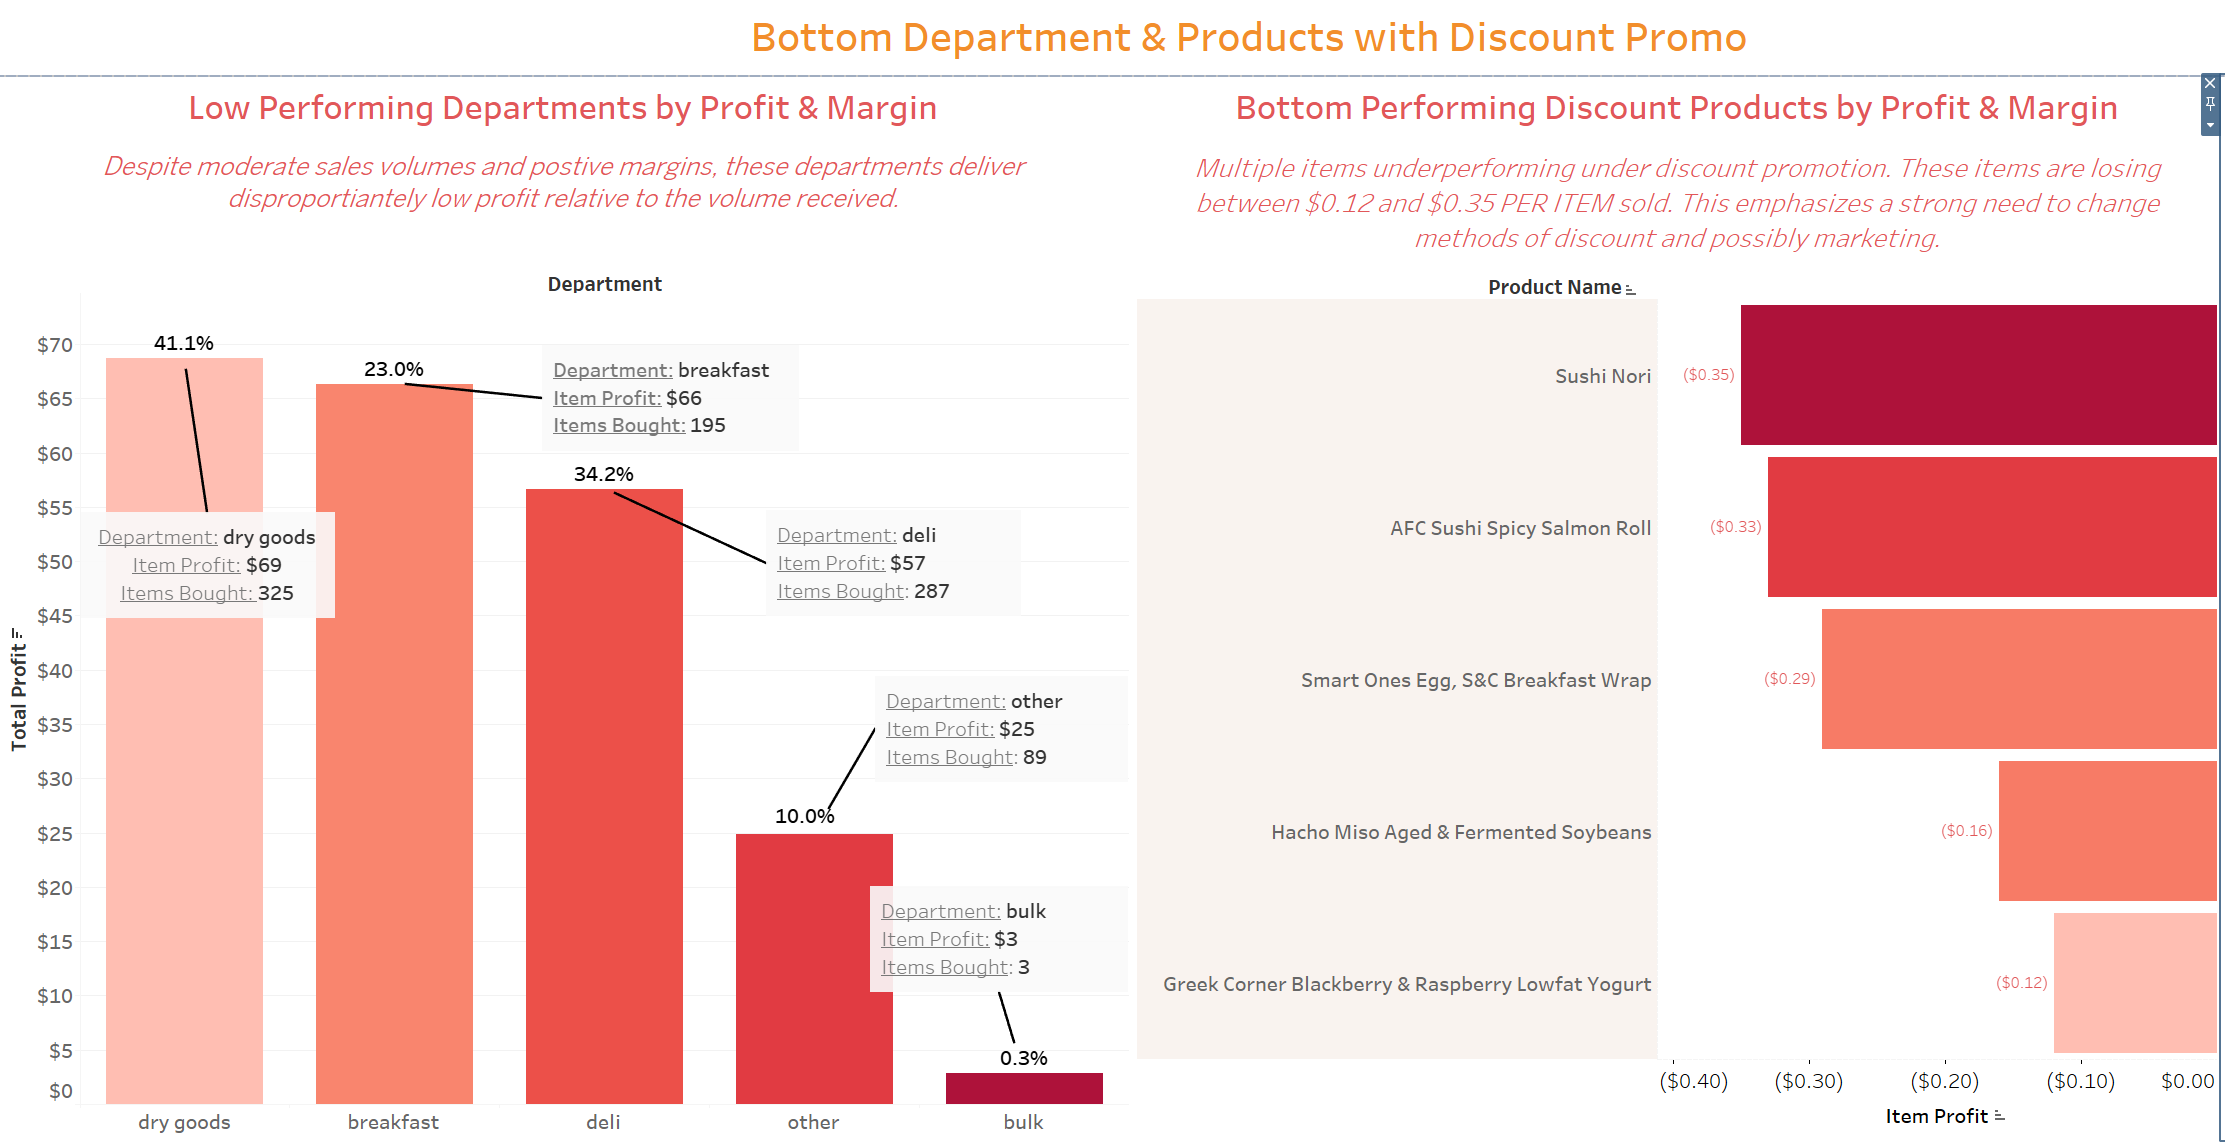

This screenshot's page, from the dashboard's own definition file:
{"tool":"tableau","page":{"name":"Bottom Performers","canvas":[1000,1000],"units":"permille","ordinal":0},"visuals":[{"type":"text","box":[3.2,6.9,993.7,105.1]},{"type":"dashboard-object","box":[772.1,15.5,110.8,44.8]},{"type":"dashboard-object","box":[884.5,15.5,110.8,44.8]},{"type":"dashboard-object","box":[836.6,63.7,112,44.8]},{"type":"worksheet","title":"Bottom Dept","mark":"Automatic","rows":["item_profit"],"cols":["department"],"box":[3.2,112,421.7,881.1]},{"type":"worksheet","title":"Bottom Products","mark":"Automatic","rows":["product_name"],"cols":["item_profit"],"box":[424.8,112,496.8,881.1]}]}

Visuals, with their boxes on the dashboard's canvas, which has no fixed pixel size, in thousandths of its width and height (x1, y1, x2, y2). These are canvas units, not pixel positions in the 2225x1148 screenshot, which may show the page scaled, cropped or inside an application window:
text: bbox=(3, 7, 997, 112)
dashboard-object: bbox=(772, 16, 883, 60)
dashboard-object: bbox=(884, 16, 995, 60)
dashboard-object: bbox=(837, 64, 949, 108)
"Bottom Dept" worksheet: bbox=(3, 112, 425, 993)
"Bottom Products" worksheet: bbox=(425, 112, 922, 993)
